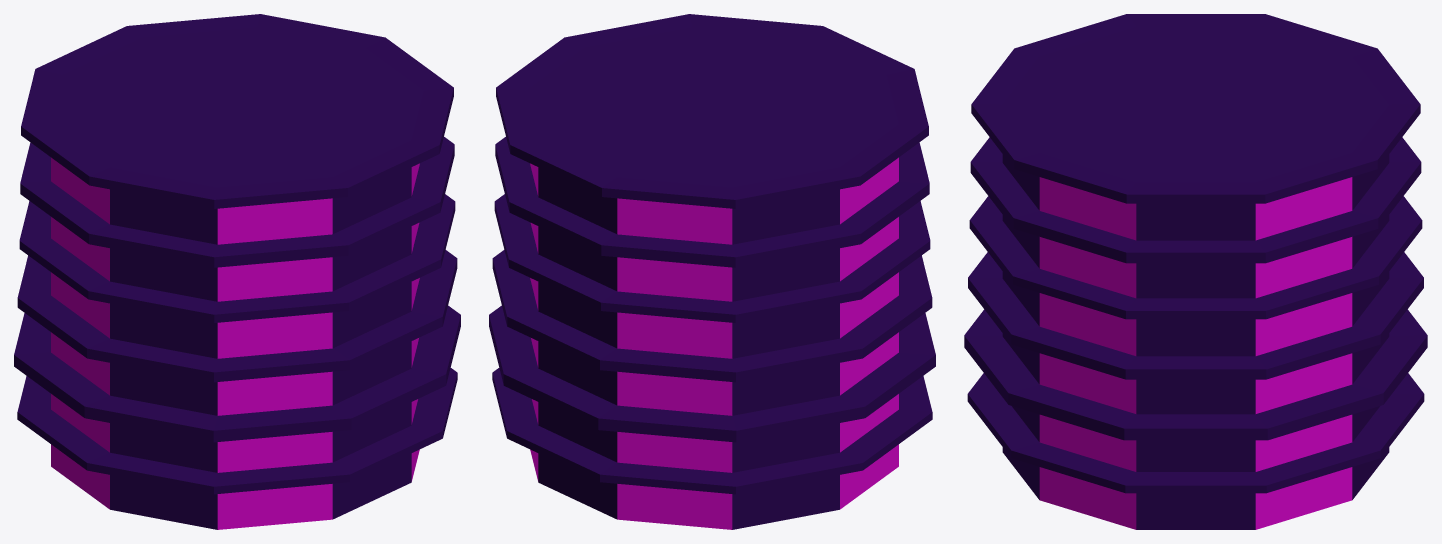
File: Oscuro Morado GRANDE Edificio 4.glb
3 views of the same model, side by side, from view 1: azimuth 30°, elevation 25°; view 2: azimuth 150°, elevation 25°; view 3: azimuth 270°, elevation 25° (orthographic).
Parts seen in each view (by area): view 1: Cylinder; view 2: Cylinder; view 3: Cylinder.
Part boxes in pixels (x1=…): Cylinder: x1=14, y1=14, x2=460, y2=529; Cylinder: x1=489, y1=14, x2=935, y2=529; Cylinder: x1=964, y1=14, x2=1427, y2=529.
Bounding box in the file's own units: 91.64 × 79.79 × 96.35.
